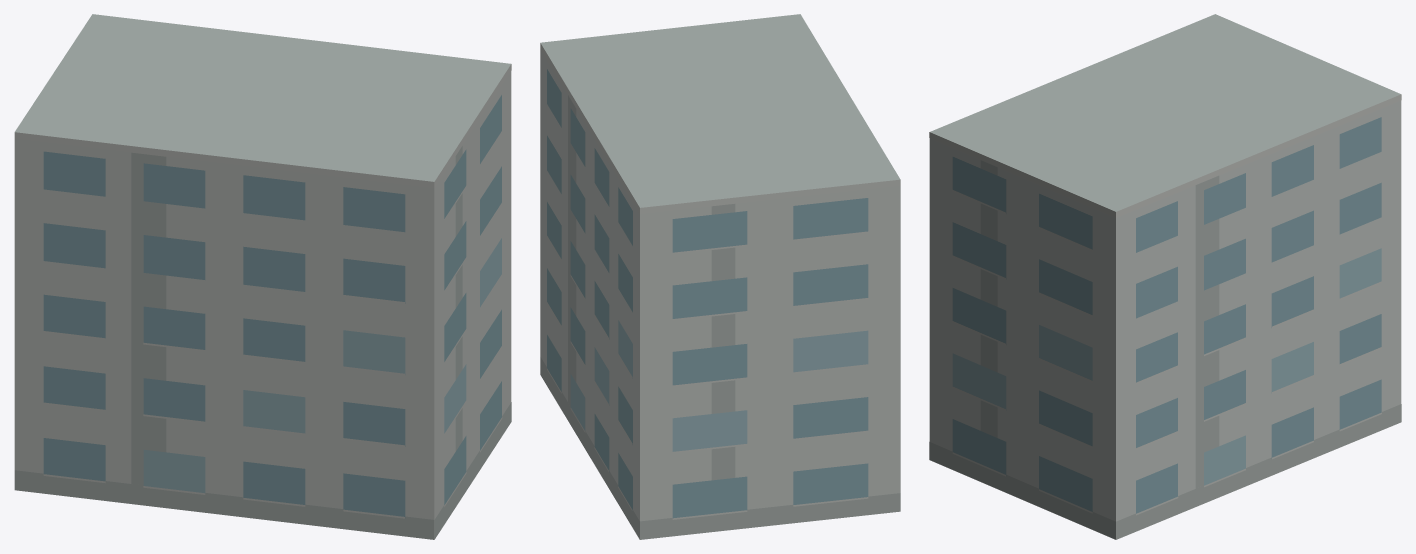
The model's file is survey-upis-32881788.glb.
3 views of the same model, side by side, from view 1: azimuth 30°, elevation 25°; view 2: azimuth 150°, elevation 25°; view 3: azimuth 270°, elevation 25° (orthographic). The views are drawn at different scales.
Visible parts, largest first — view 1: survey-upis-32881788.tmp; view 2: survey-upis-32881788.tmp; view 3: survey-upis-32881788.tmp.
Part boxes in pixels (<box>): survey-upis-32881788.tmp: <box>14,14,511,539</box>; survey-upis-32881788.tmp: <box>540,14,900,539</box>; survey-upis-32881788.tmp: <box>929,14,1401,539</box>.
Size of the model in its own units: 16.96 by 13.1 by 17.09.
